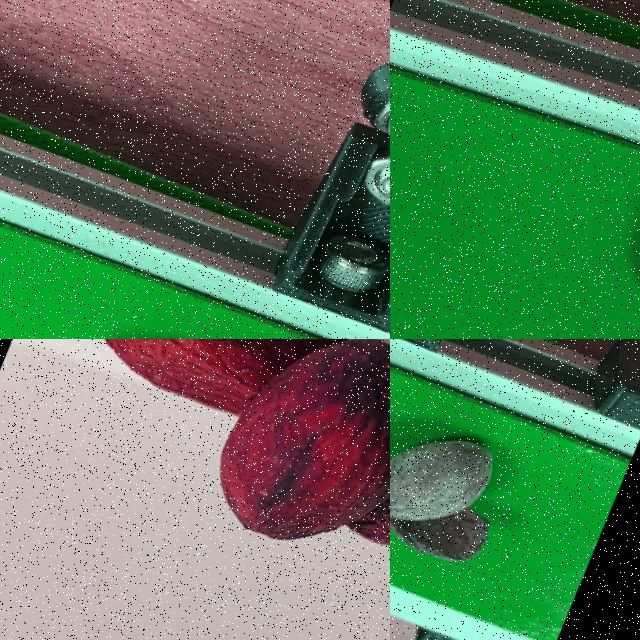Agglomerated_cocoabeans: (4, 339, 389, 639), (390, 346, 597, 639), (51, 281, 389, 338)
Flat_cocoabeans: (526, 137, 639, 338)
